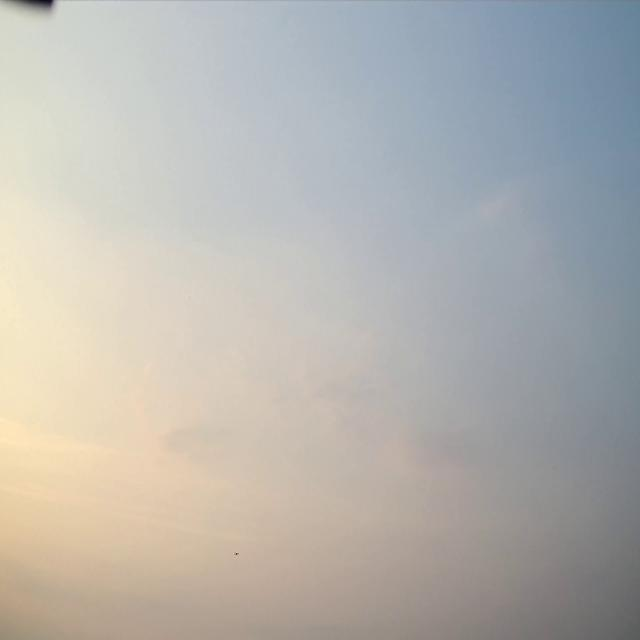UAV: (234, 552, 239, 556)
